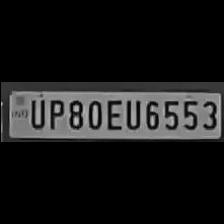0: (84, 96, 102, 130)
3: (199, 98, 219, 130)
5: (160, 98, 180, 130), (180, 96, 198, 130)
6: (140, 98, 160, 130)
8: (64, 96, 84, 130)
E: (104, 97, 122, 131)
P: (45, 96, 63, 130)
U: (122, 96, 142, 130), (25, 97, 45, 129)
